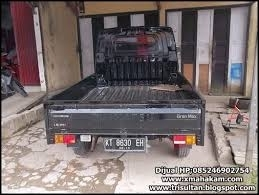plate: (104, 136, 145, 150)
